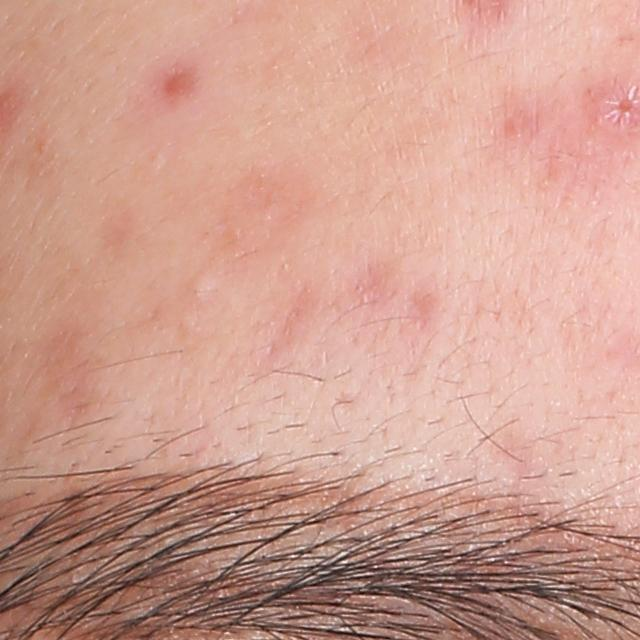comedo: (182, 269, 223, 310)
